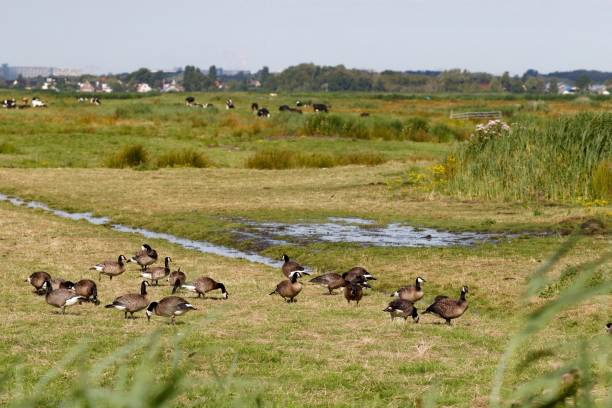goose: (304, 266, 376, 305), (422, 284, 471, 327), (106, 279, 150, 324), (46, 288, 102, 316), (145, 295, 197, 325), (181, 275, 230, 303), (268, 270, 303, 304), (384, 298, 420, 325), (90, 253, 127, 279), (142, 255, 173, 286), (392, 276, 426, 302), (21, 269, 53, 296), (129, 242, 158, 270), (278, 254, 307, 282), (168, 267, 186, 295)
